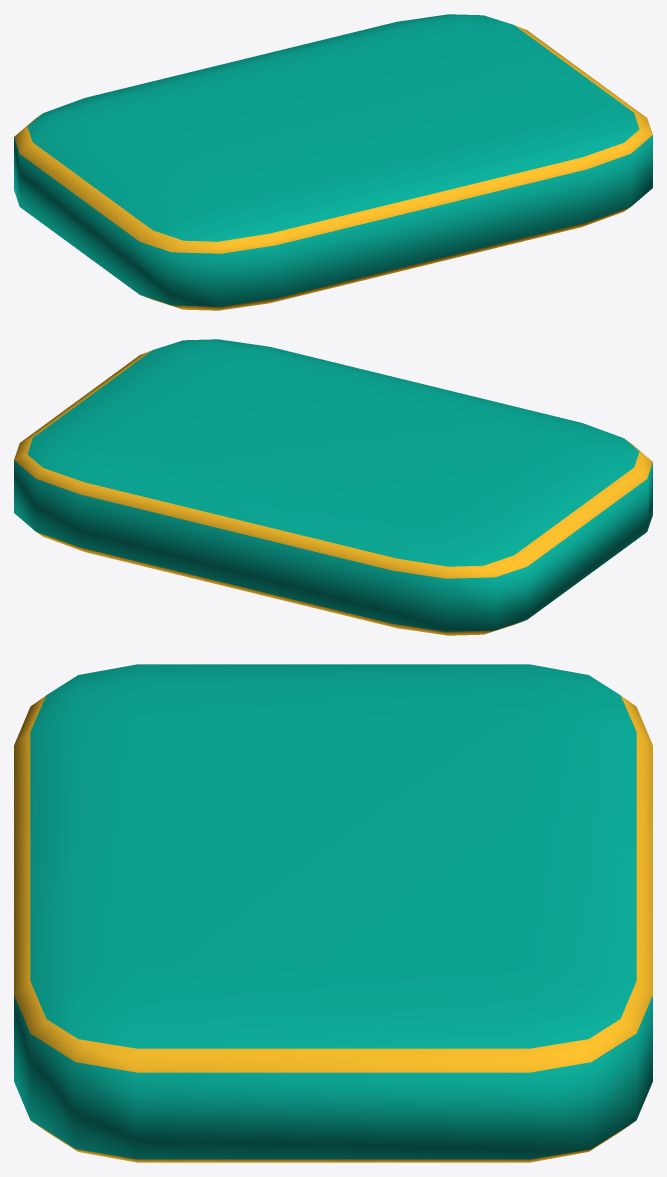
Rendered from platform01.glb.
3 renders of one model, top to bottom at view 1: azimuth 30°, elevation 25°; view 2: azimuth 150°, elevation 25°; view 3: azimuth 270°, elevation 25°, orthographic. The views are drawn at different scales.
Parts seen in each view (by area): view 1: platform.003; view 2: platform.003; view 3: platform.003.
Part boxes in pixels (left/top/right/bottom): platform.003: left=14, top=14, right=652, bottom=310; platform.003: left=14, top=339, right=652, bottom=635; platform.003: left=14, top=664, right=652, bottom=1162.
Size of what is drawn, in the model's own units: 3.08 by 0.5 by 2.05.
1 material, 1 textured.
